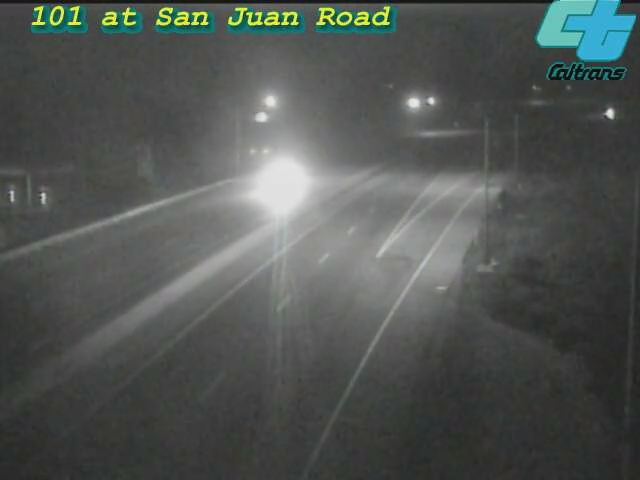vehicle: (234, 144, 314, 224), (584, 89, 634, 139)
